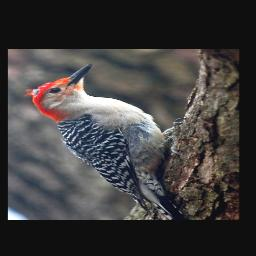Woodpecker: (24, 64, 188, 220)
